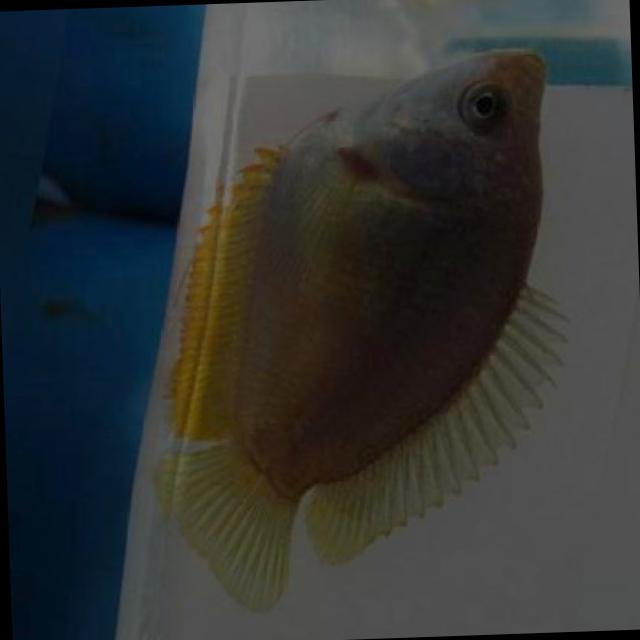Gourami: (136, 37, 586, 612)
